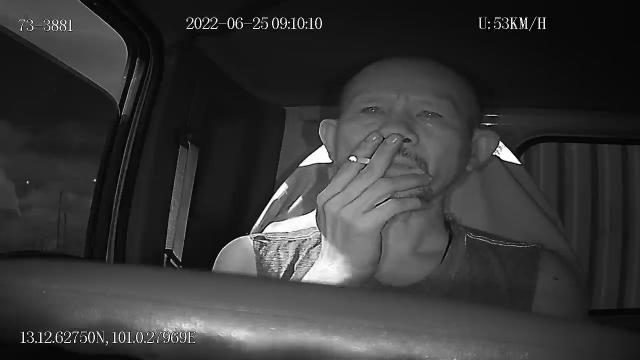SafeDriving: (409, 100, 449, 127), (352, 96, 390, 122)
Smoking: (348, 154, 370, 164)
